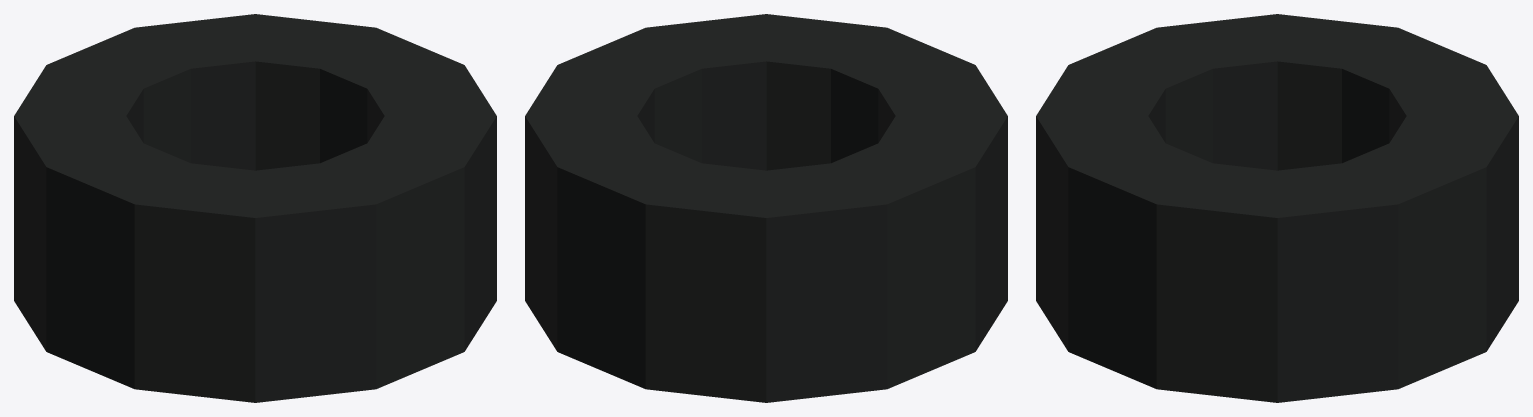
3 renders of one model, left to right at view 1: azimuth 30°, elevation 25°; view 2: azimuth 150°, elevation 25°; view 3: azimuth 270°, elevation 25°, orthographic.
Parts seen in each view (by area): view 1: pneu_individual; view 2: pneu_individual; view 3: pneu_individual.
Boxes of the visible parts, x1,y1,x2,y2 form: pneu_individual: (14, 14, 496, 402); pneu_individual: (525, 14, 1007, 402); pneu_individual: (1036, 14, 1518, 402).
Bounding box in the file's own units: 0.71 × 0.3 × 0.71.
1 material, 1 textured.
